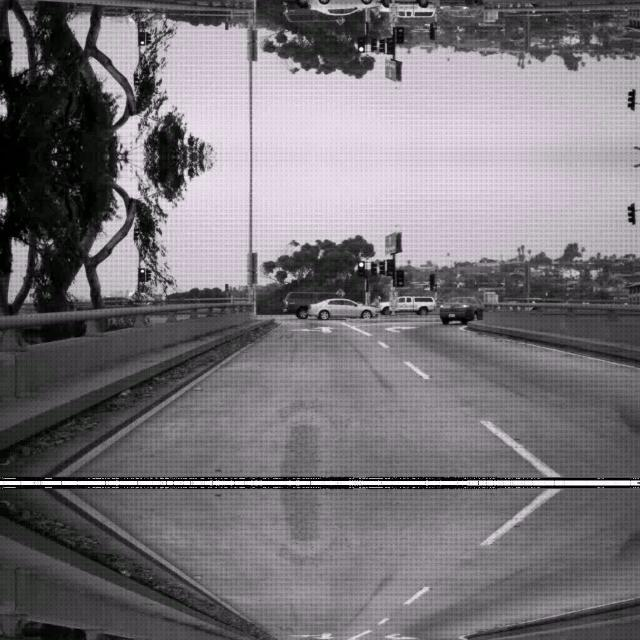signalAhead: (334, 286, 346, 296), (334, 16, 346, 26)
